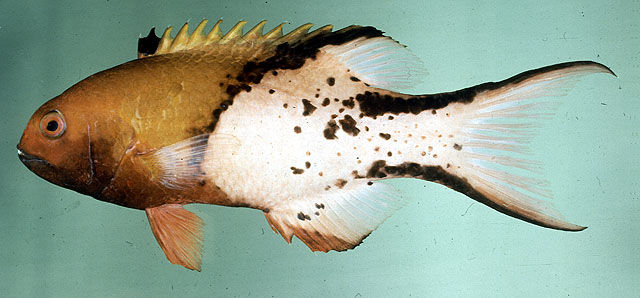fish: (18, 19, 619, 275)
